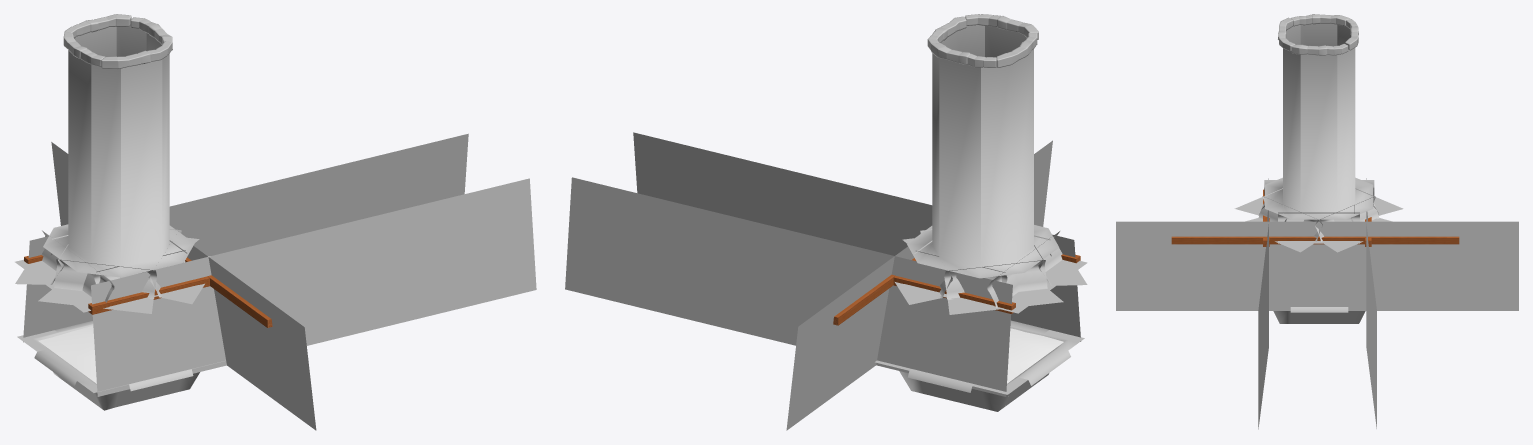
File: Armory_E.fbx
3 views of the same model, side by side, from view 1: azimuth 30°, elevation 25°; view 2: azimuth 150°, elevation 25°; view 3: azimuth 270°, elevation 25° (orthographic). The views are drawn at different scales.
Parts seen in each view (by area): view 1: MeshBakerResult.022; view 2: MeshBakerResult.022; view 3: MeshBakerResult.022.
Part boxes in pixels (x1,y1,x2,y2): MeshBakerResult.022: (15,14,536,430); MeshBakerResult.022: (565,14,1087,430); MeshBakerResult.022: (1116,14,1518,429).
Size of the model in its own units: 3011 by 2110 by 2800.
